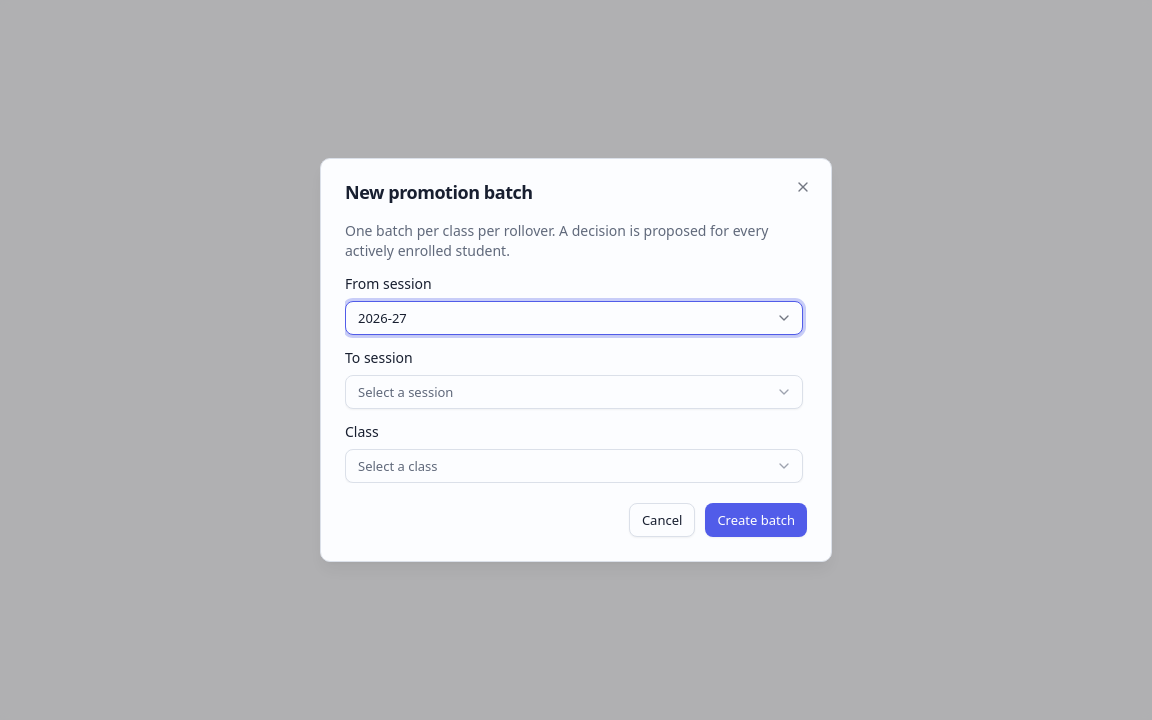
Test: CreatePromotionBatchDialog › the choices › offers the old source as a target once the source moves
Click the dropdown named "From session". click: [382, 318]
box: [345,301,803,335]
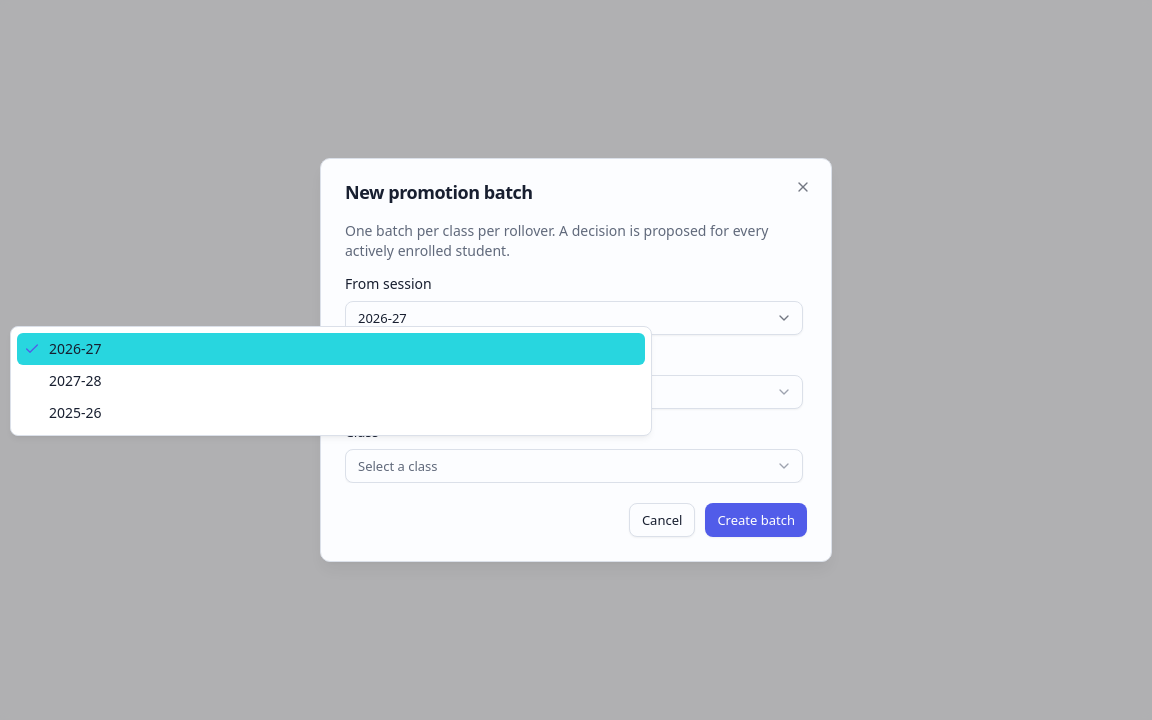
Click the option "2027-28". click: [75, 380]
box: [49,371,102,390]
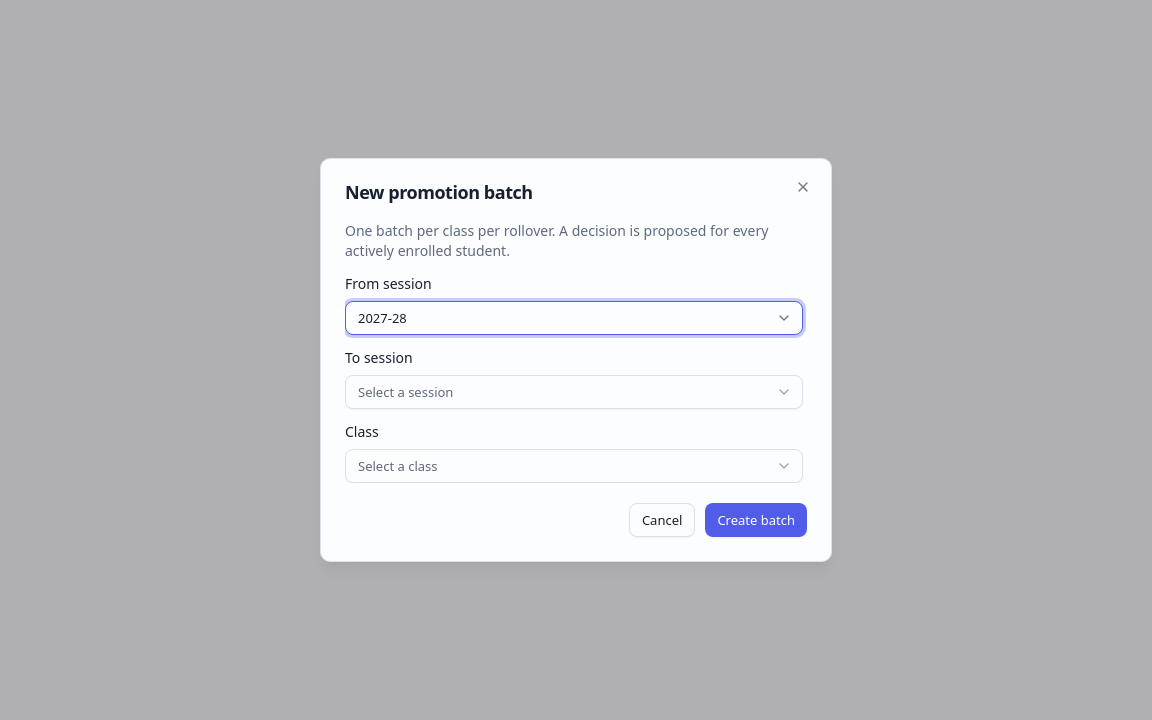
Click the dropdown named "To session". click: [406, 392]
box: [345,375,803,409]
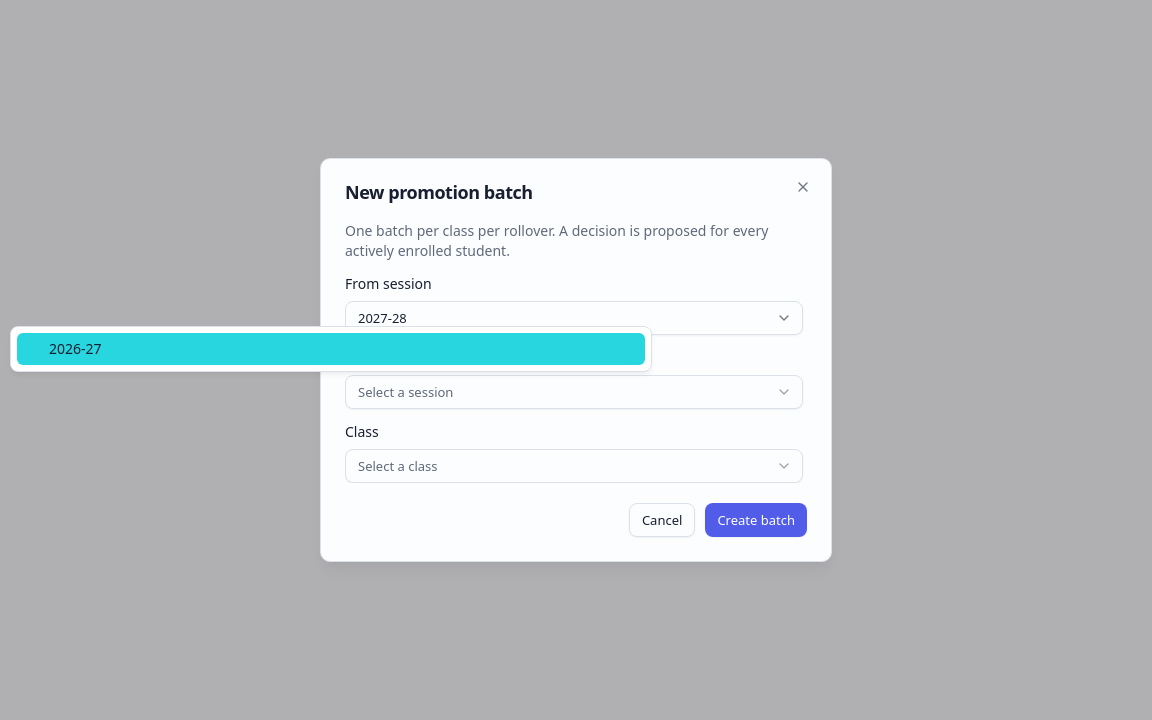
Expected: the option "2026-27" is shown, [17,333,645,365]
